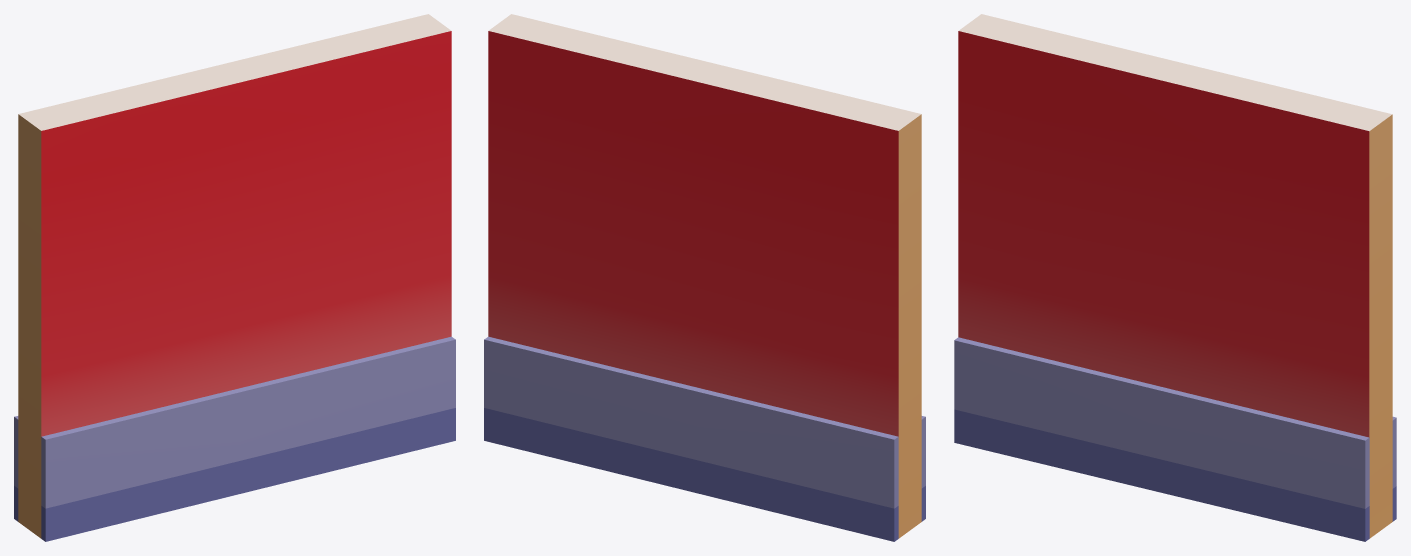
File: M1_Wall_03_2.fbx
3 views of the same model, side by side, from view 1: azimuth 30°, elevation 25°; view 2: azimuth 150°, elevation 25°; view 3: azimuth 330°, elevation 25° (orthographic).
Parts seen in each view (by area): view 1: M1_Wall_03_2; view 2: M1_Wall_03_2; view 3: M1_Wall_03_2.
Part boxes in pixels (box(x1,y1,x2,y2)): M1_Wall_03_2: box(14, 14, 455, 541); M1_Wall_03_2: box(484, 14, 925, 541); M1_Wall_03_2: box(954, 14, 1396, 541).
Size of the model in its own units: 400 by 380 by 53.06.
